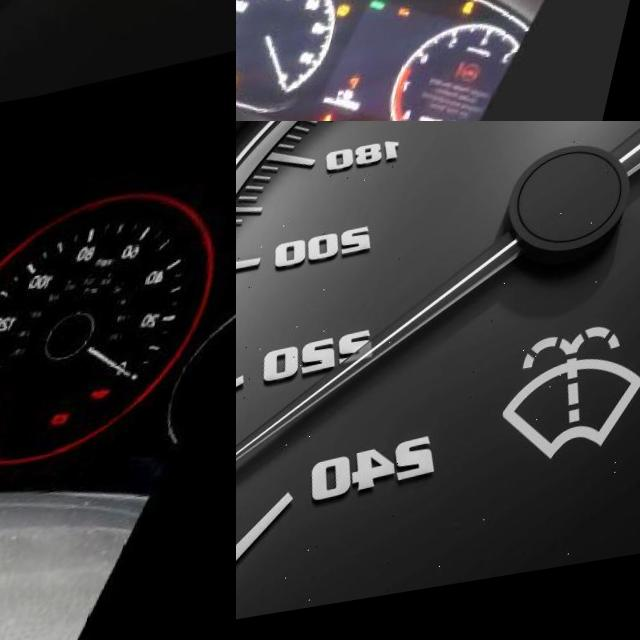Seat Belt: (1, 403, 22, 424)
Washer Fluid: (509, 333, 640, 480)
